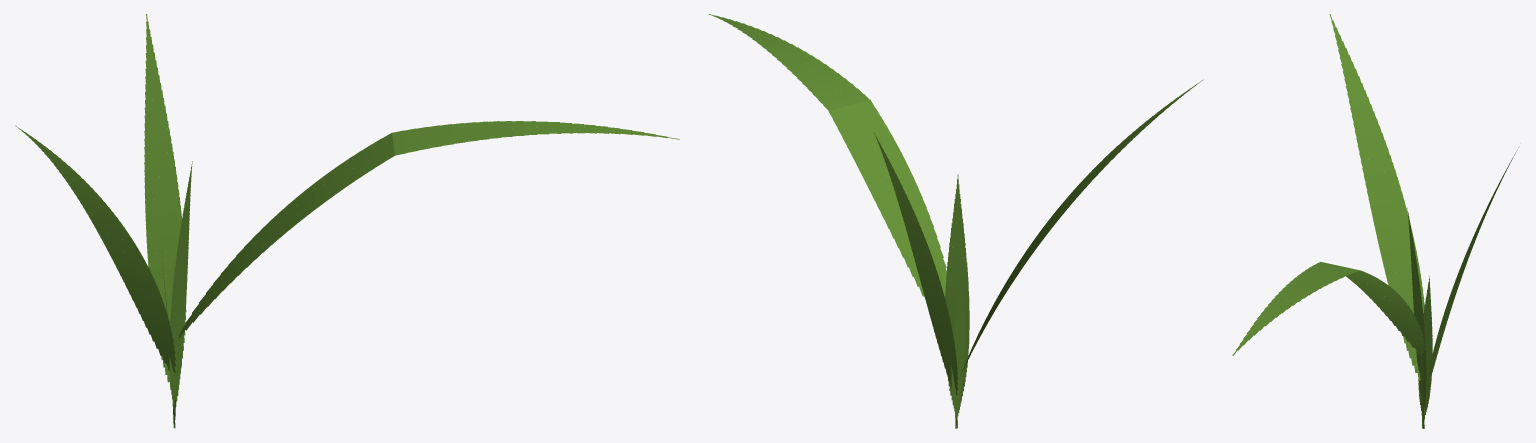
File: maize_003_day_050.dae
3 views of the same model, side by side, from view 1: azimuth 30°, elevation 25°; view 2: azimuth 150°, elevation 25°; view 3: azimuth 270°, elevation 25° (orthographic). The views are drawn at different scales.
Visible parts, largest first — view 1: node; view 2: node; view 3: node.
Part boxes in pixels (x1,y1,x2,y2): node: [15, 14, 679, 428]; node: [708, 14, 1203, 428]; node: [1232, 14, 1519, 428].
Bounding box in the file's own units: 0.3895 × 0.2437 × 0.1954.
Materials: 1 (1 with a texture image).
